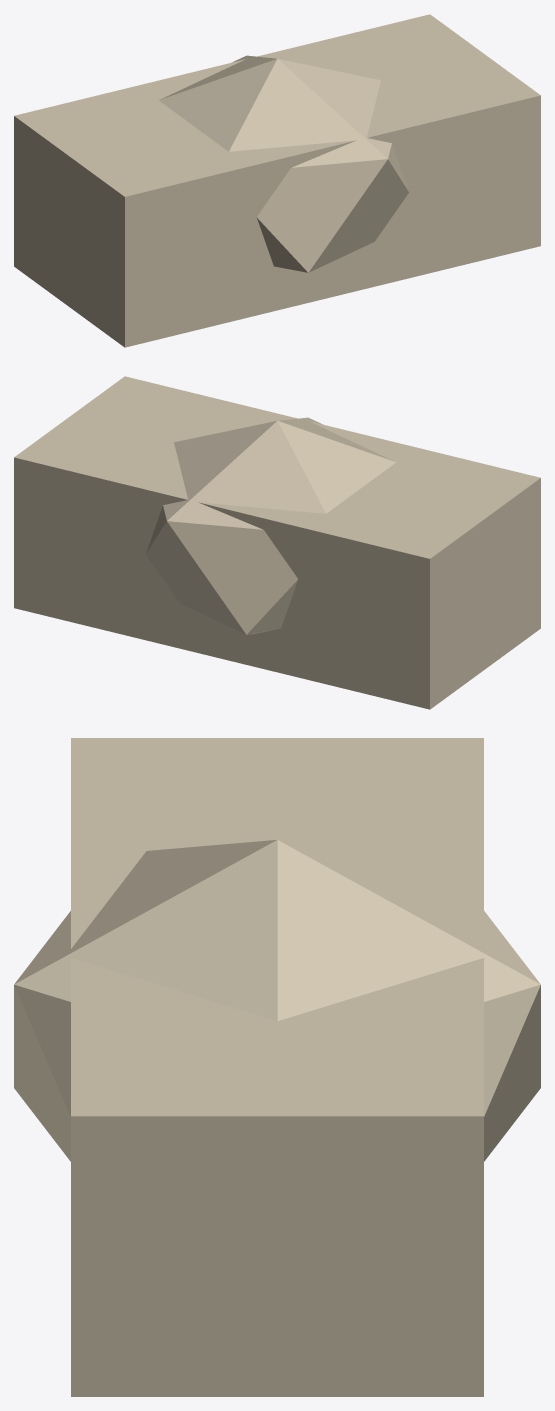
Rendered from Esya_Ekmek.glb.
The picture shows the model from 3 angles, top to bottom: view 1: azimuth 30°, elevation 25°; view 2: azimuth 150°, elevation 25°; view 3: azimuth 270°, elevation 25°; orthographic projection. The views are drawn at different scales.
Visible parts, largest first — view 1: Esya_Ekmek; view 2: Esya_Ekmek; view 3: Esya_Ekmek.
Part boxes in pixels (<box>): Esya_Ekmek: <box>14,14,540,347</box>; Esya_Ekmek: <box>14,376,540,709</box>; Esya_Ekmek: <box>14,738,540,1396</box>.
Size of the model in its own units: 0.26 by 0.126 by 0.1531.
